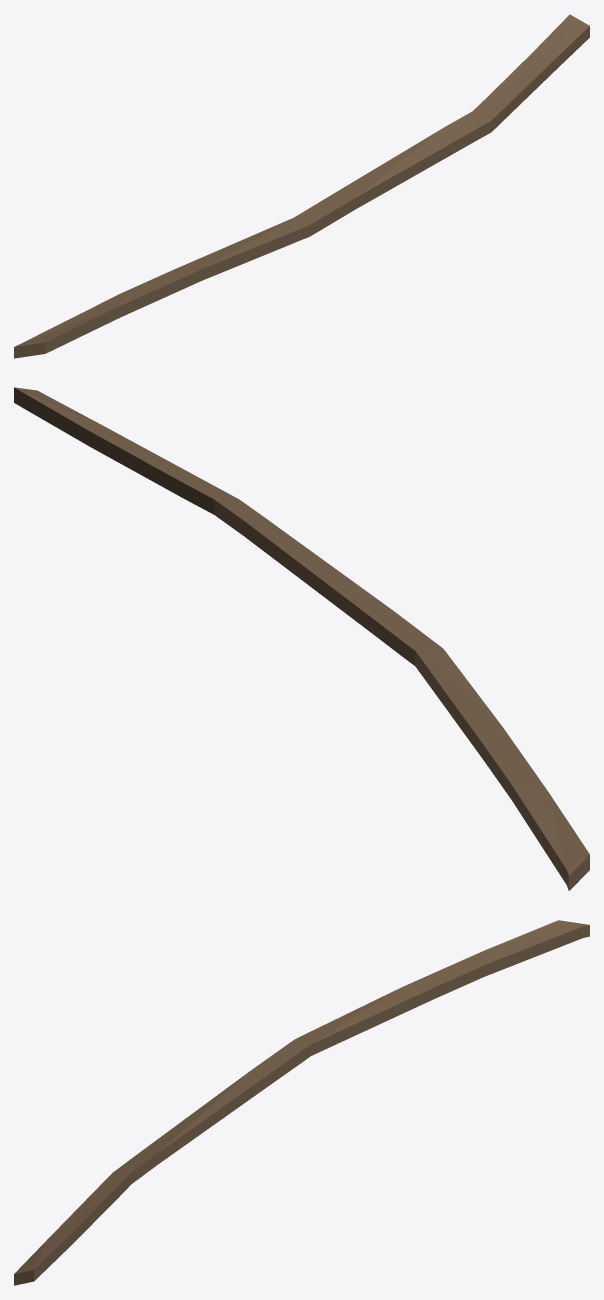
3 views of the same model, one above another, from view 1: azimuth 90°, elevation 25°; view 2: azimuth 150°, elevation 25°; view 3: azimuth 270°, elevation 25° (orthographic). The views are drawn at different scales.
Bounding box in the file's own units: 43.79 × 2.02 × 31.46.
